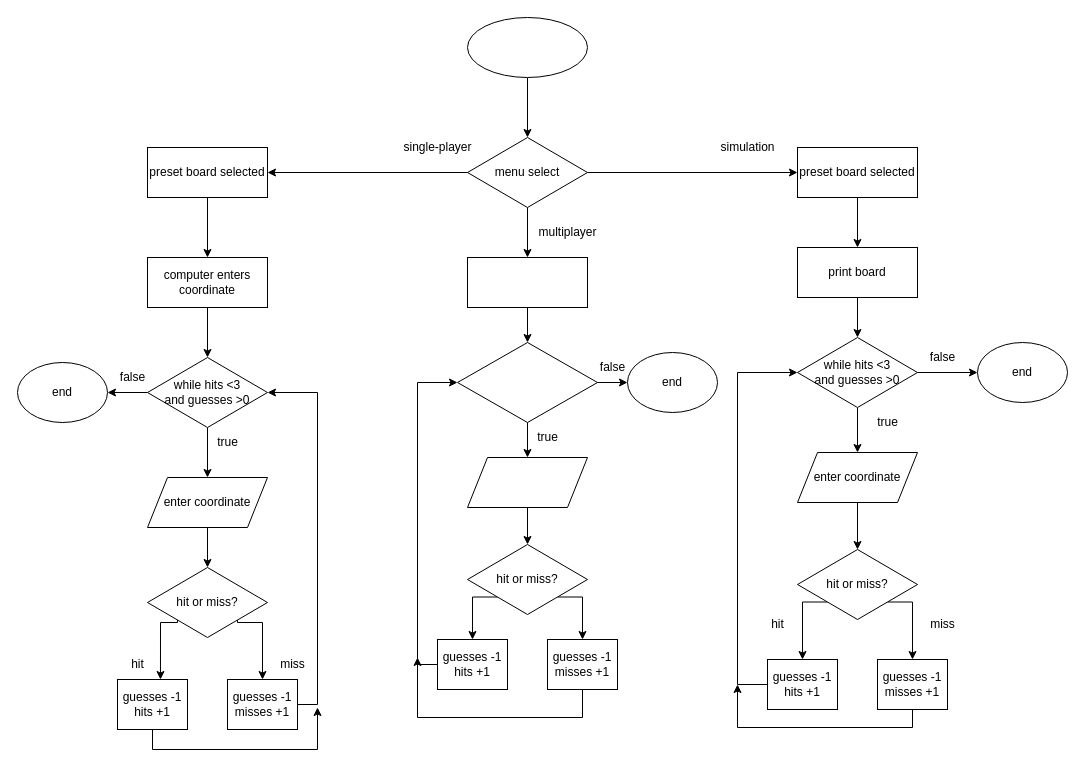
This 1085x775 diagram has some shape labels left out. Here are the shapes that lost their labels. From the top down, the centre of each, then its label:
At [527,47]: "start".
At [527,282]: "both players place ships".
At [527,382]: "while both hits<3 and both guesses >0".
At [527,482]: "player one enters coordinate".
